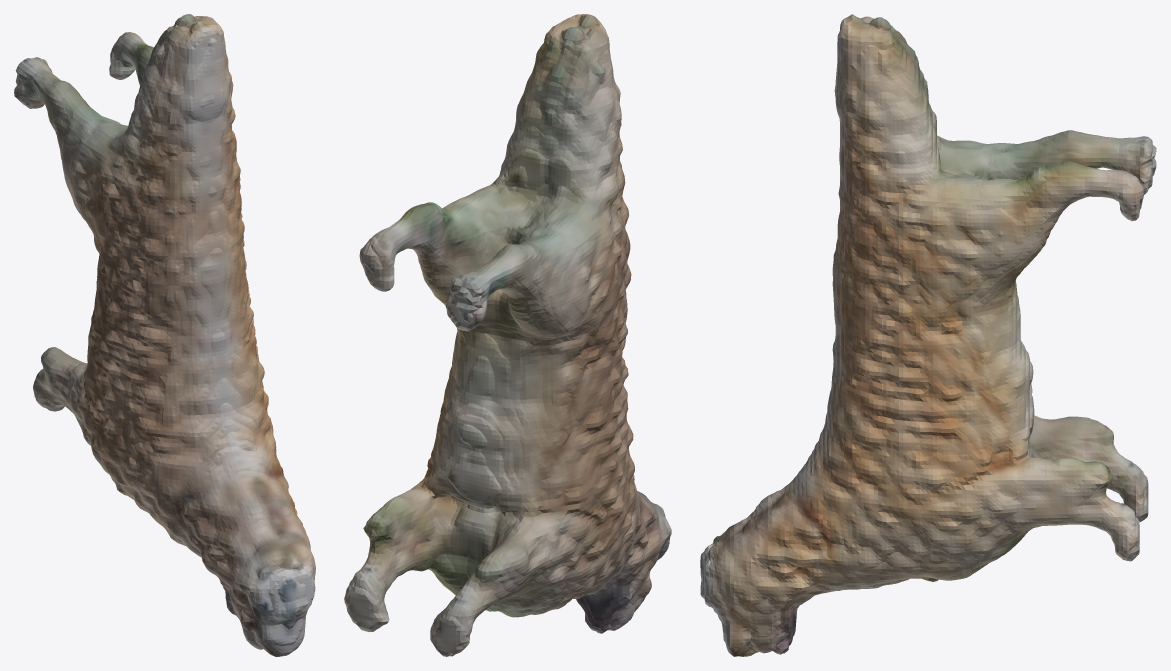
The picture shows the model from 3 angles, left to right: view 1: azimuth 30°, elevation 25°; view 2: azimuth 150°, elevation 25°; view 3: azimuth 270°, elevation 25°; orthographic projection. The views are drawn at different scales.
Parts seen in each view (by area): view 1: world; view 2: world; view 3: world.
Part boxes in pixels (bbox=[...]): world: bbox=[14, 14, 315, 656]; world: bbox=[344, 14, 671, 656]; world: bbox=[700, 14, 1156, 656].
Size of the model in its own units: 0.3153 by 1.12 by 0.7359.
